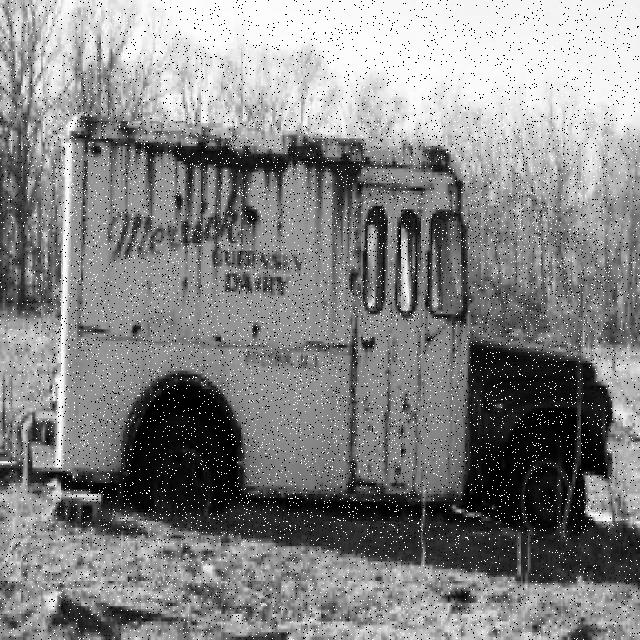Box Truck: (49, 113, 612, 541)
